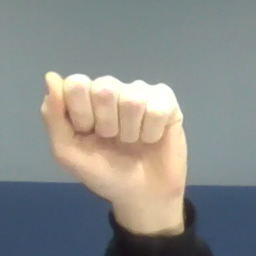A: (35, 69, 192, 199)
